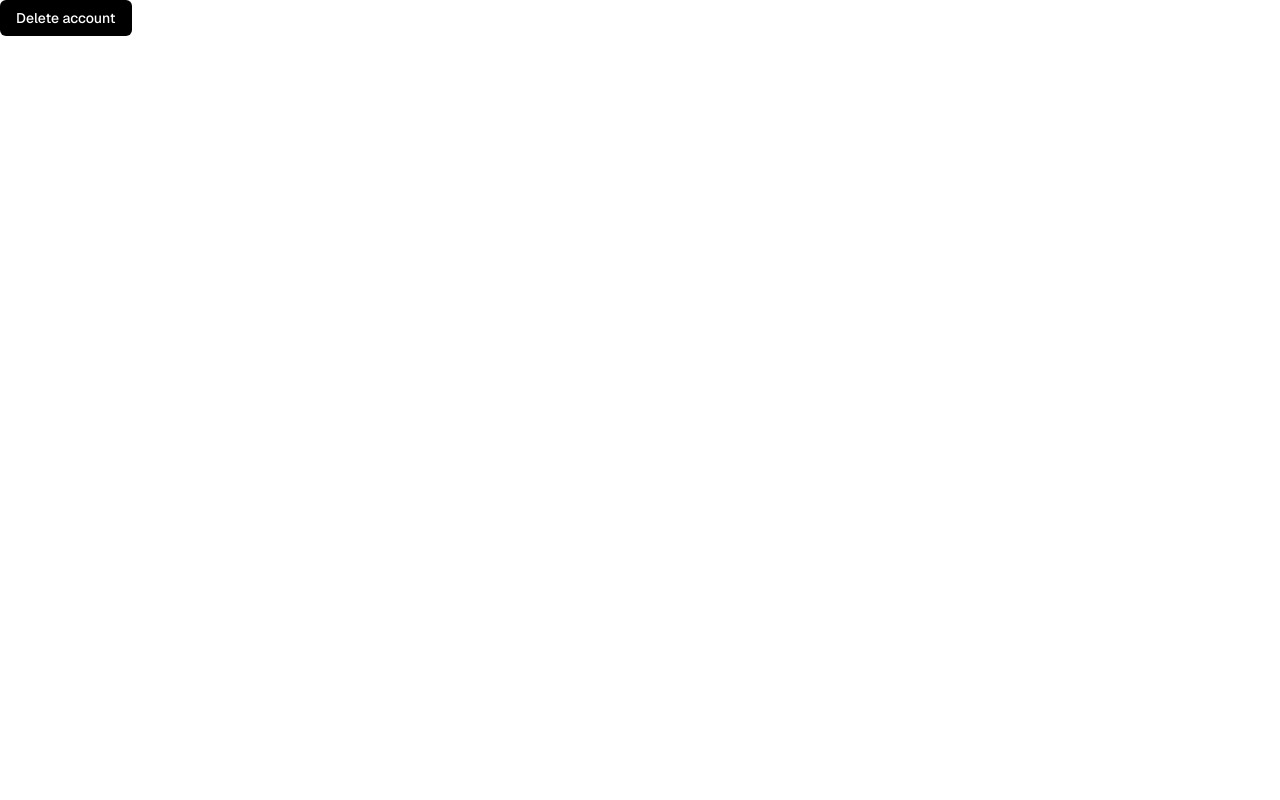
Test: AlertDialog › opens and shows the title
Click the button "Delete account": (66, 18) [0, 0, 132, 36]
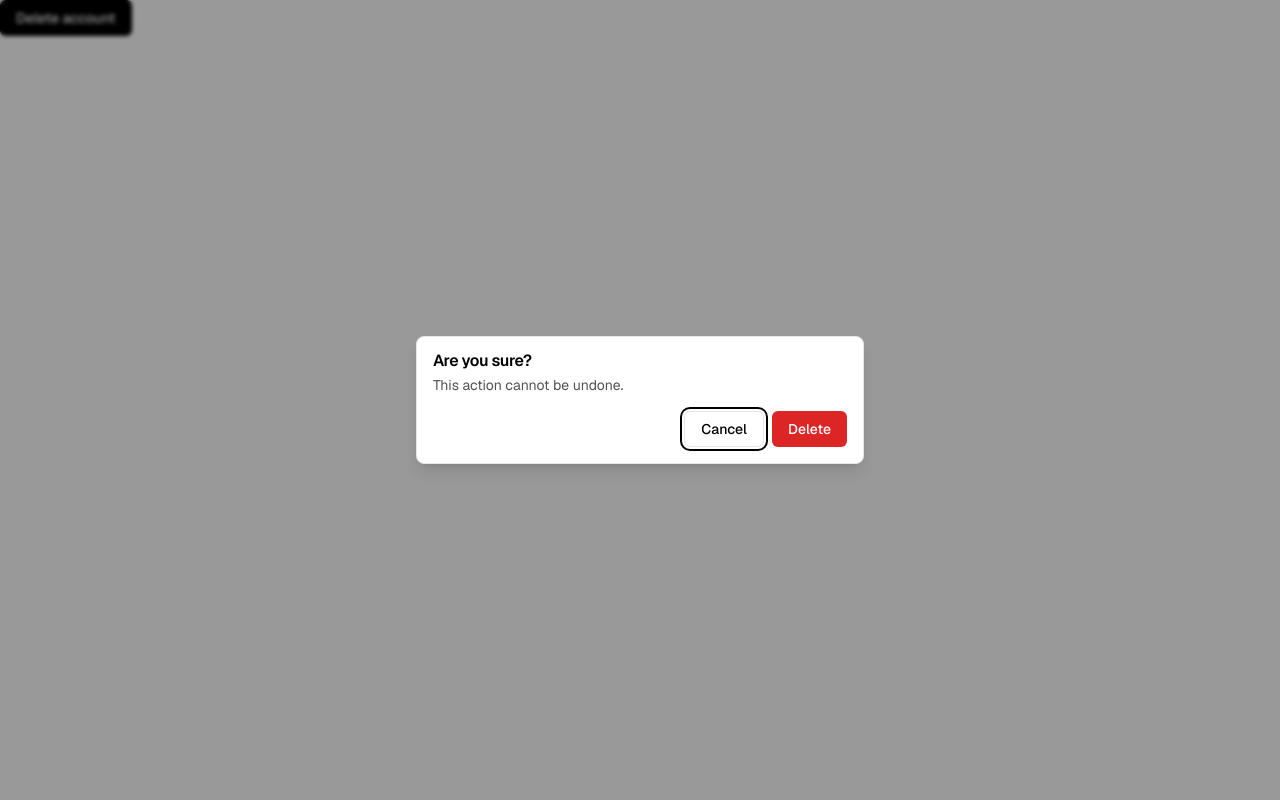
Result: the dialog is shown at [416, 336, 864, 464]
Result: the heading "Are you sure?" is shown at [433, 350, 532, 371]
Result: the button "Cancel" is shown at [684, 411, 764, 447]
